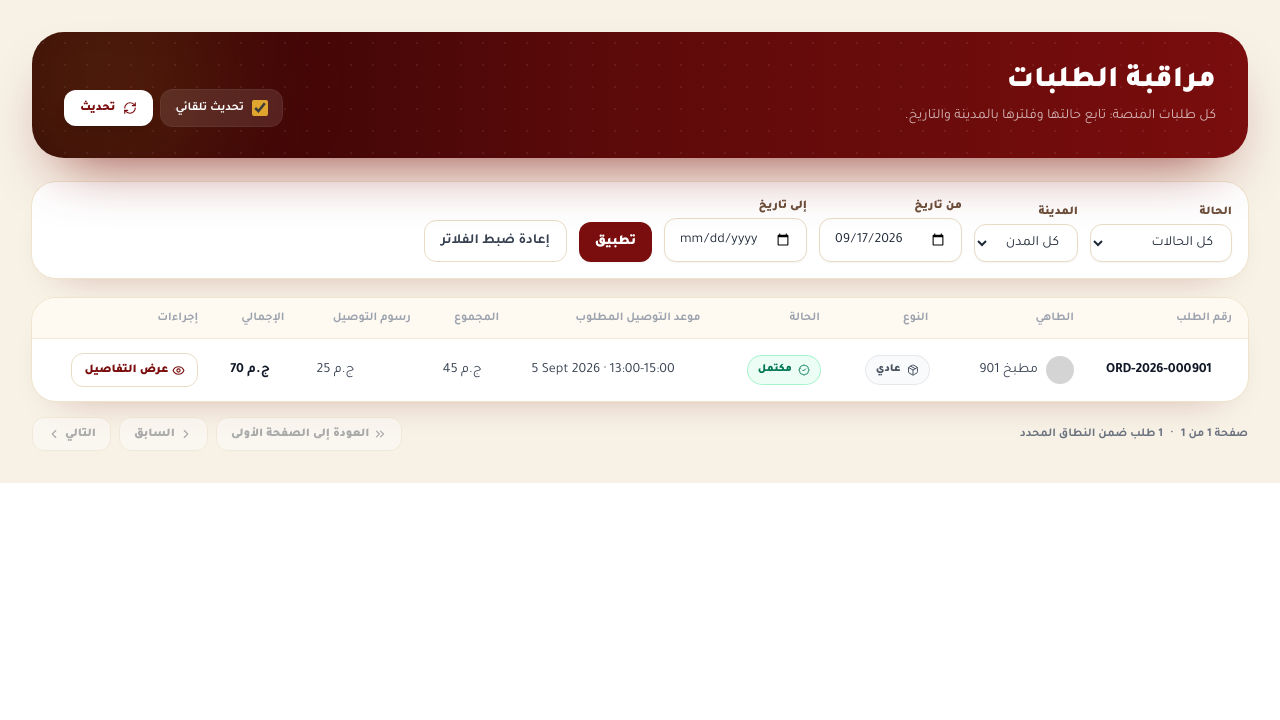
US3 — inspect one order in detail › opens on the list copy, then fills in people, address, driver and timeline from GET /admin/orders/{id}
Check: the text "ORD-2026-000901" is shown, box [1090,338,1248,401]
Click the button "عرض التفاصيل": (135, 370) [71,353,198,387]
(page scrolled)
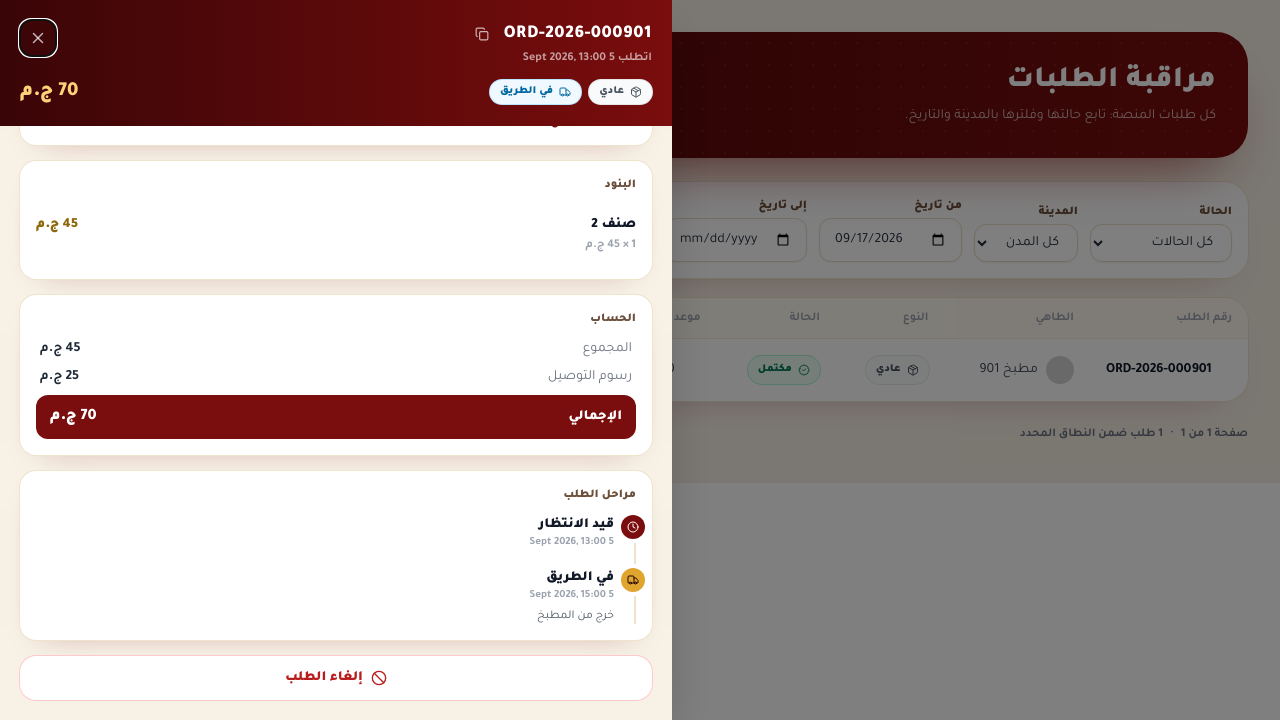
Check: the heading "مراحل الطلب" is shown, box [563,489,636,501]
Check: the text "خرج من المطبخ" is shown, box [537,610,614,622]
